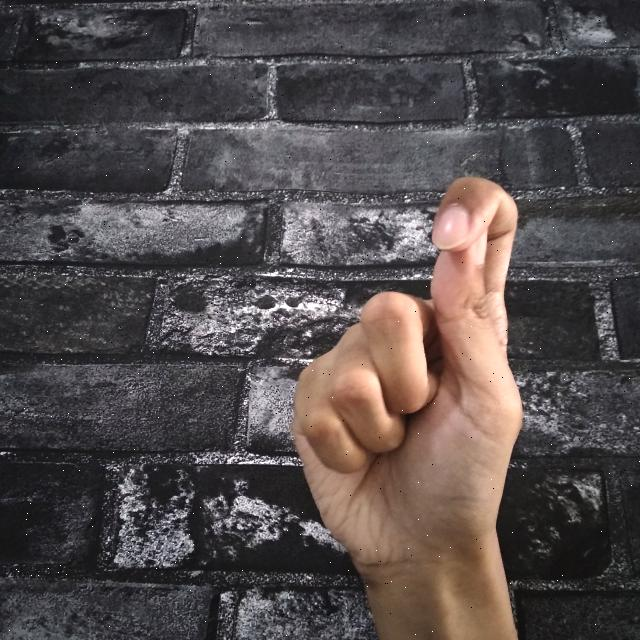T: (283, 171, 532, 640)
